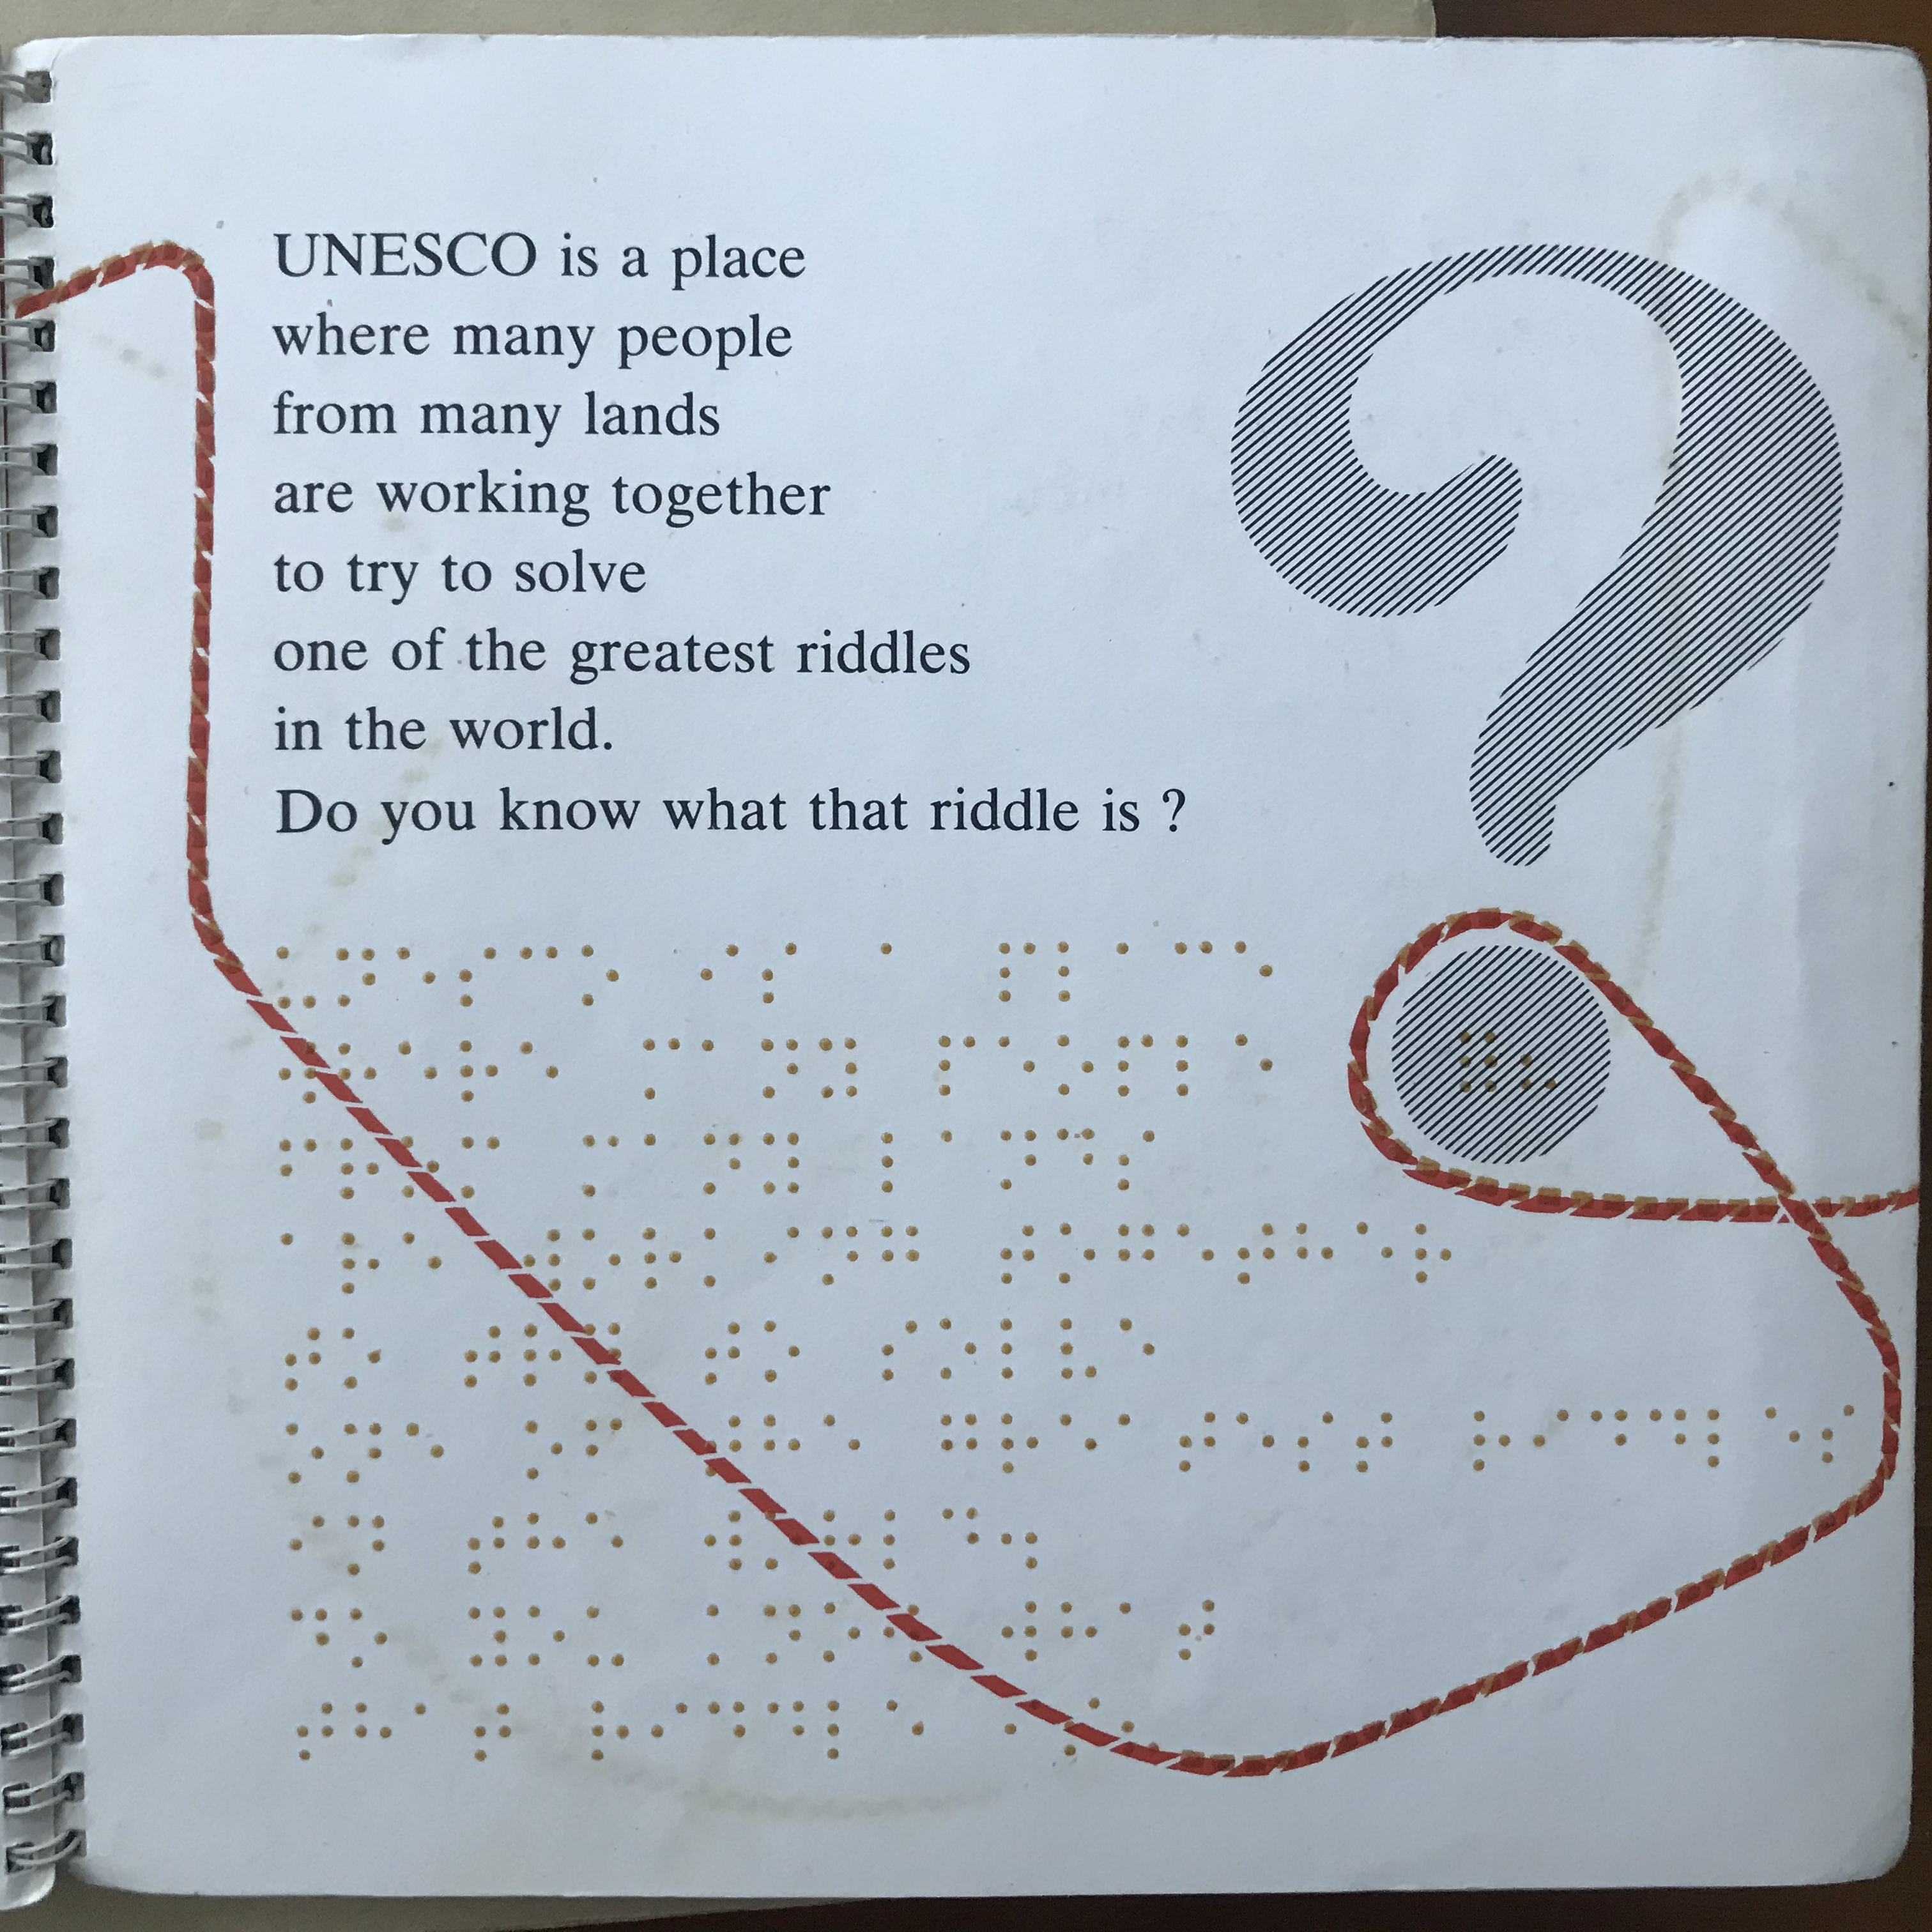Braille: (465, 1603, 515, 1675), (996, 1031, 1040, 1108), (757, 1033, 801, 1108), (575, 941, 621, 1012), (520, 1226, 566, 1297), (584, 1605, 630, 1675), (469, 1698, 515, 1769), (639, 1033, 683, 1106), (819, 1031, 863, 1104), (338, 1134, 382, 1207), (391, 943, 437, 1012), (520, 1033, 561, 1111), (1235, 932, 1277, 1007), (1175, 1405, 1217, 1479), (276, 941, 320, 1012), (879, 938, 924, 1008), (393, 1039, 437, 1109), (460, 1136, 504, 1207), (878, 1318, 922, 1389), (333, 945, 379, 1012), (996, 1127, 1042, 1194), (403, 1421, 449, 1488), (640, 1127, 678, 1210), (757, 938, 800, 1010), (701, 1127, 743, 1200), (1116, 1598, 1159, 1670), (456, 943, 501, 1012), (996, 939, 1040, 1008), (701, 1320, 745, 1389), (460, 1037, 501, 1111), (580, 1131, 621, 1205), (1122, 1695, 1162, 1769), (292, 1700, 338, 1766), (587, 1700, 633, 1766), (276, 1134, 318, 1205), (763, 1131, 805, 1201), (340, 1329, 384, 1396), (1355, 1408, 1399, 1476), (281, 1035, 322, 1108), (936, 1030, 977, 1102), (1060, 1316, 1100, 1389), (941, 1504, 982, 1576), (1001, 1598, 1042, 1670), (699, 939, 741, 1008), (462, 1323, 504, 1392), (1000, 1507, 1042, 1576), (1063, 1695, 1106, 1764), (879, 1224, 924, 1290), (1118, 1030, 1157, 1104), (400, 1132, 439, 1207), (1175, 932, 1215, 1003), (879, 1127, 920, 1198), (340, 1231, 380, 1302), (1237, 1405, 1277, 1476), (1060, 1599, 1100, 1670), (1056, 1127, 1099, 1194), (1293, 1223, 1336, 1290), (584, 1322, 626, 1389), (821, 1507, 863, 1575), (524, 1603, 566, 1670), (885, 1599, 927, 1667), (1178, 1598, 1221, 1665), (1001, 1691, 1044, 1759), (1058, 1028, 1097, 1100), (763, 1603, 807, 1667), (403, 1231, 444, 1300), (642, 1224, 683, 1293), (939, 1316, 980, 1385), (525, 1511, 566, 1580), (347, 1606, 389, 1672), (708, 1698, 750, 1764), (520, 941, 559, 1012), (340, 1037, 379, 1108), (1238, 1028, 1277, 1099), (1120, 1127, 1159, 1198), (525, 1323, 564, 1394), (764, 1316, 803, 1387), (1120, 1316, 1159, 1387), (1060, 1412, 1099, 1483), (1295, 1408, 1336, 1476), (823, 1599, 863, 1667), (649, 1698, 690, 1766), (826, 1697, 867, 1764), (582, 1419, 625, 1483), (938, 1414, 980, 1477), (347, 1514, 389, 1578), (1115, 934, 1154, 1003), (938, 1127, 977, 1196), (1058, 1221, 1097, 1290), (1001, 1412, 1040, 1481), (823, 1412, 863, 1477), (706, 1511, 747, 1576), (1060, 936, 1097, 1007), (1120, 1412, 1157, 1483), (1118, 1223, 1157, 1290), (1238, 1223, 1277, 1290), (347, 1421, 386, 1488), (1472, 1405, 1511, 1472), (1532, 1403, 1571, 1470), (467, 1511, 506, 1578), (354, 1698, 393, 1766), (821, 1226, 862, 1290), (290, 1603, 331, 1667), (886, 1698, 927, 1762), (584, 1228, 621, 1297), (1178, 1224, 1215, 1293), (701, 1606, 743, 1667), (283, 1327, 322, 1392), (412, 1700, 451, 1766), (702, 1415, 743, 1477), (1178, 1030, 1214, 1100), (1357, 1219, 1392, 1290), (1415, 1223, 1453, 1290), (764, 1414, 801, 1481), (587, 1511, 625, 1578), (766, 1507, 803, 1575), (998, 1318, 1037, 1382), (1592, 1405, 1631, 1468), (1651, 1405, 1690, 1468), (1762, 1405, 1801, 1468), (883, 1507, 922, 1571), (766, 1702, 809, 1760), (287, 1419, 322, 1488), (699, 1037, 736, 1102), (525, 1421, 563, 1486), (280, 1228, 318, 1290), (704, 1226, 741, 1290), (1000, 1226, 1039, 1286), (287, 1511, 326, 1571), (763, 1224, 798, 1290), (1707, 1405, 1741, 1468), (1824, 1403, 1858, 1465)
